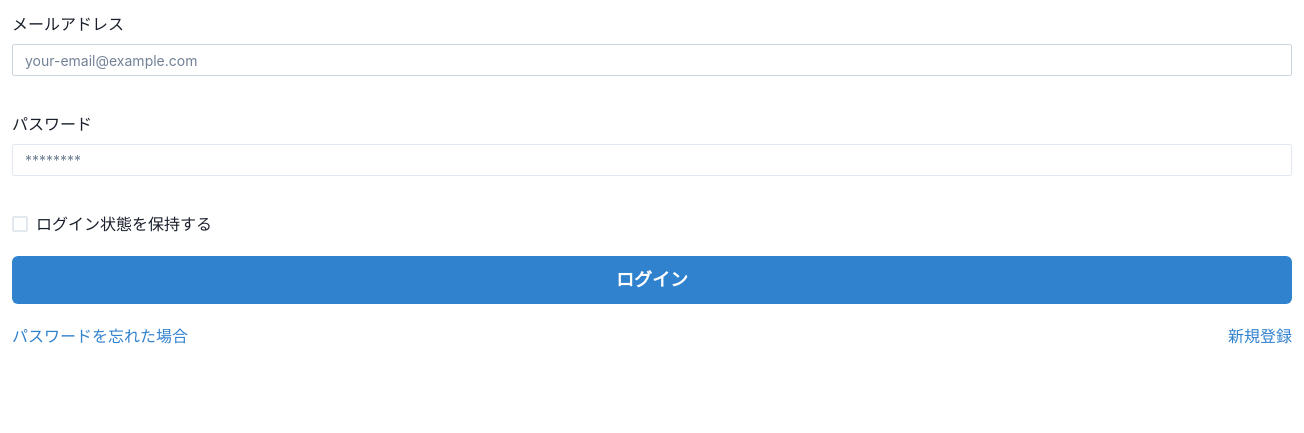
Scenario: LoginForm › axiosエラーレスポンスの詳細なエラーメッセージが表示されること
Step 1. Type "test@example.com" into the field labelled "メールアドレス" → (652,60), box [12, 44, 1292, 76]
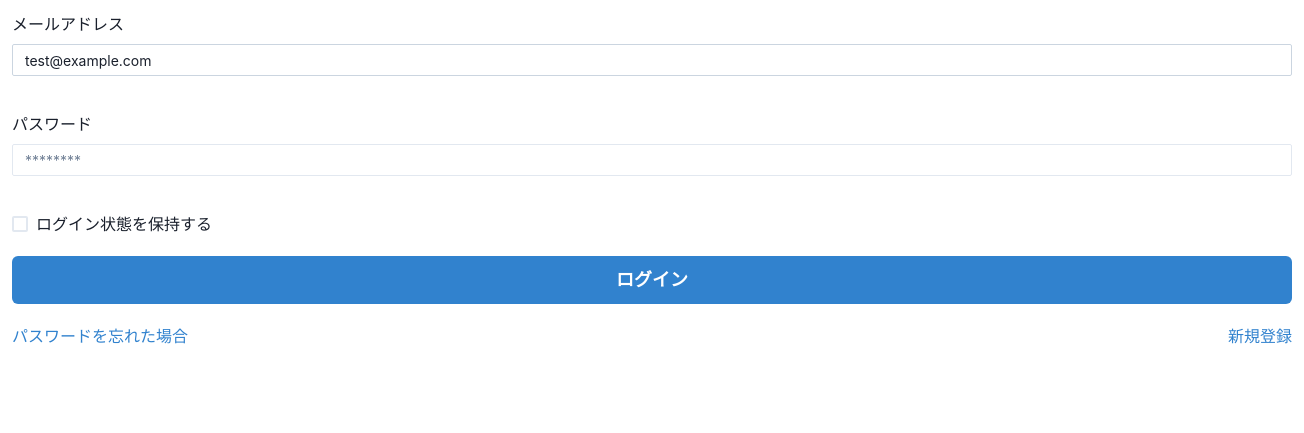
Step 2. Type "wrong-password" into the password field labelled "パスワード" → (652,160), box [12, 144, 1292, 176]
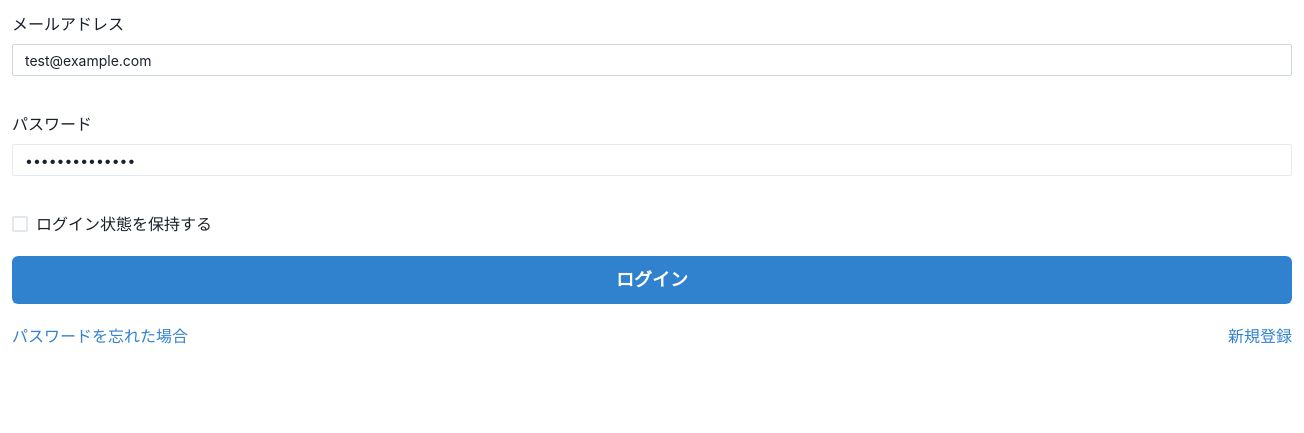
Step 3. Click the button "ログイン" → (652,280), box [12, 256, 1292, 304]
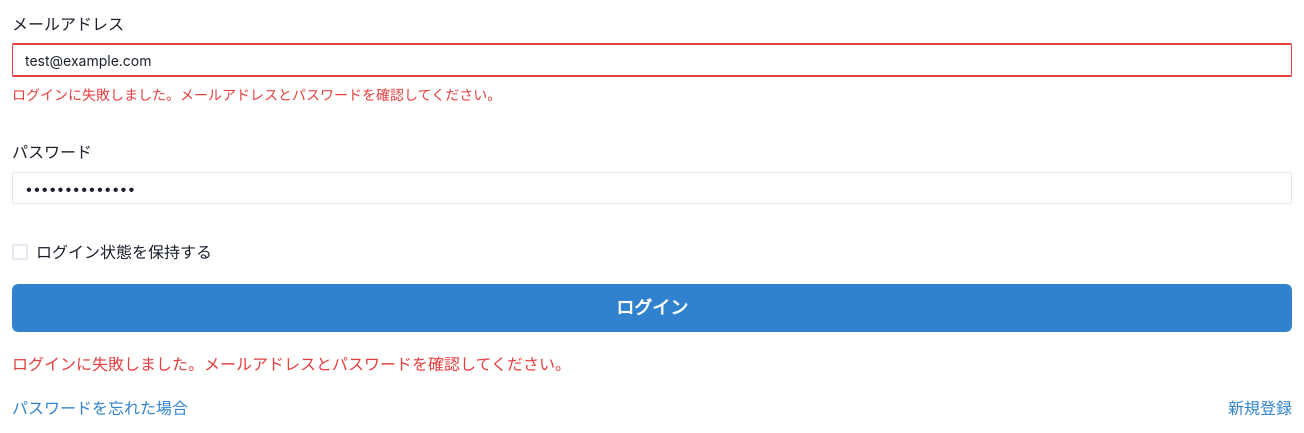
Result: the text "ログインに失敗しました。メールアドレスとパスワードを確認してください。" is shown 2 times at [12, 86, 501, 103]; [12, 354, 571, 374]
